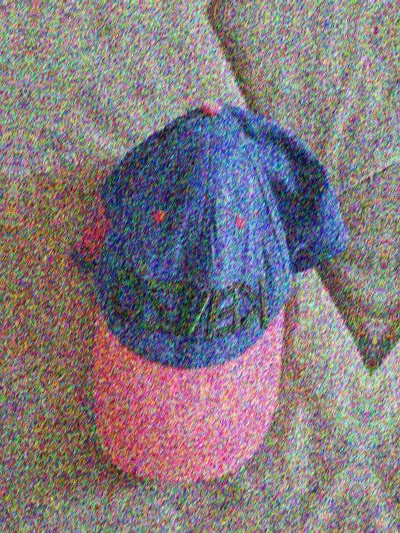Hat: (32, 57, 363, 521), (394, 101, 400, 533)
